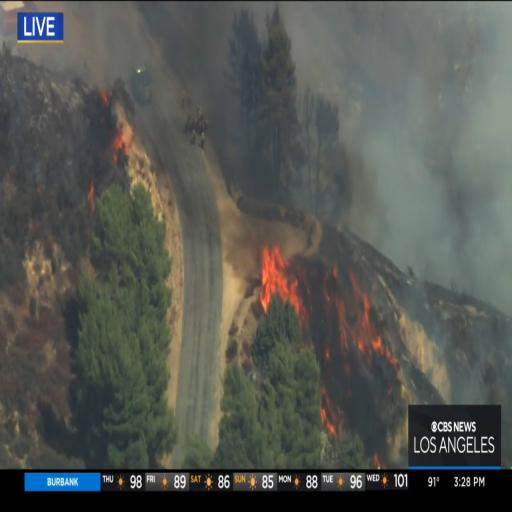fire: (348, 295, 382, 356), (258, 248, 293, 291)
smoke: (446, 69, 510, 218), (370, 144, 439, 259)
